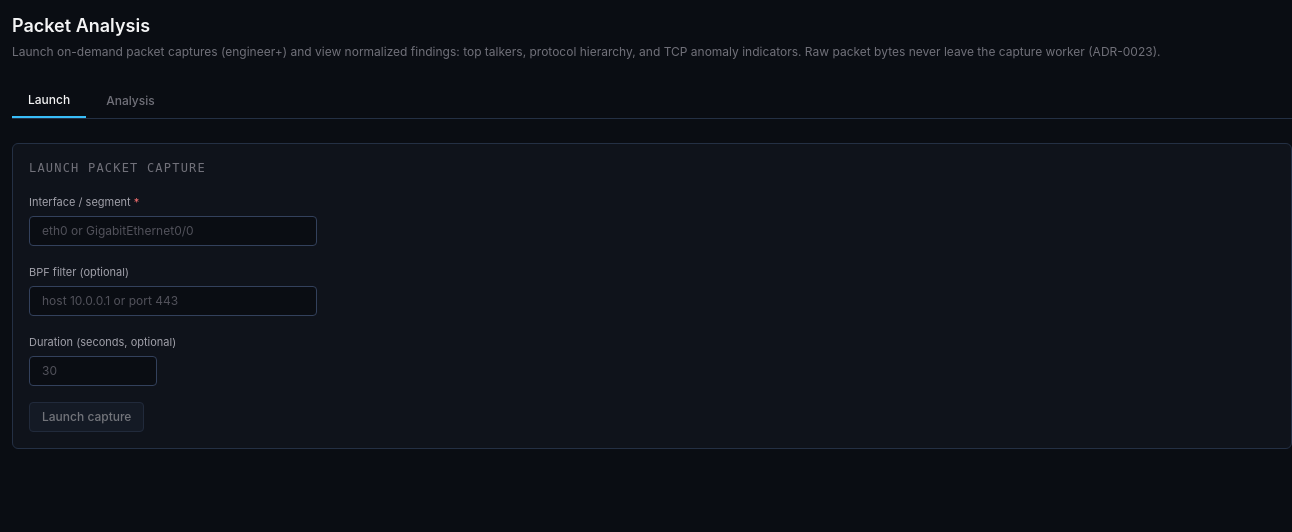
Test: PacketPage — capture launch › shows a fallback alert when capture launch rejects a non-Error value
The width and height of the screenshot is (1292, 532).
Type "eth0" into the field with test id "capture-interface". click: (173, 231)
box: x1=29 y1=216 x2=317 y2=246
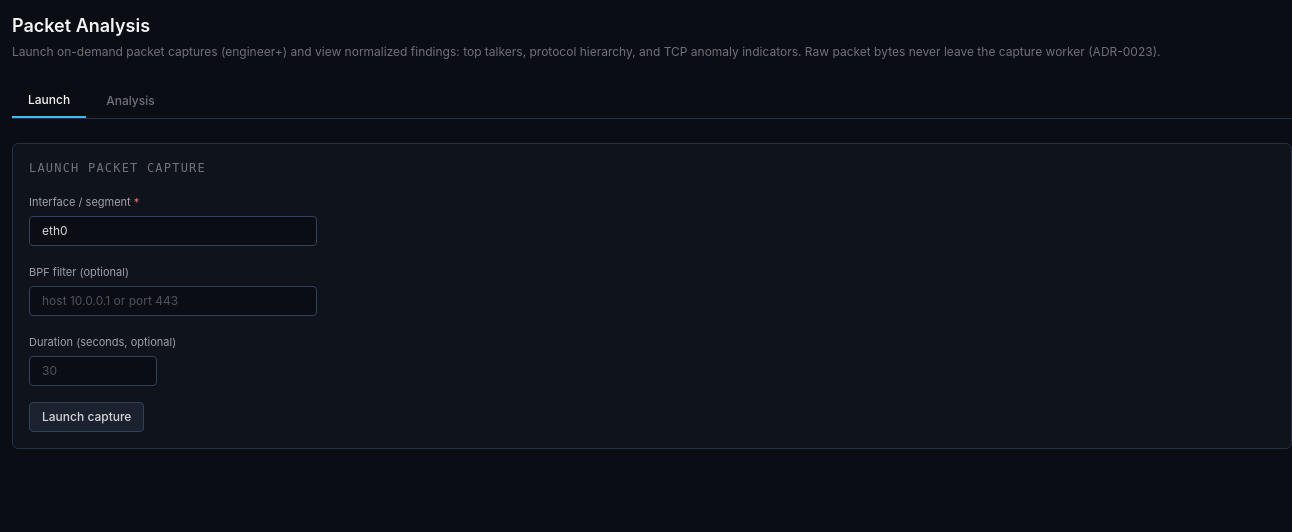
Click the button with test id "capture-launch-btn". click: (87, 417)
box: x1=29 y1=402 x2=144 y2=432
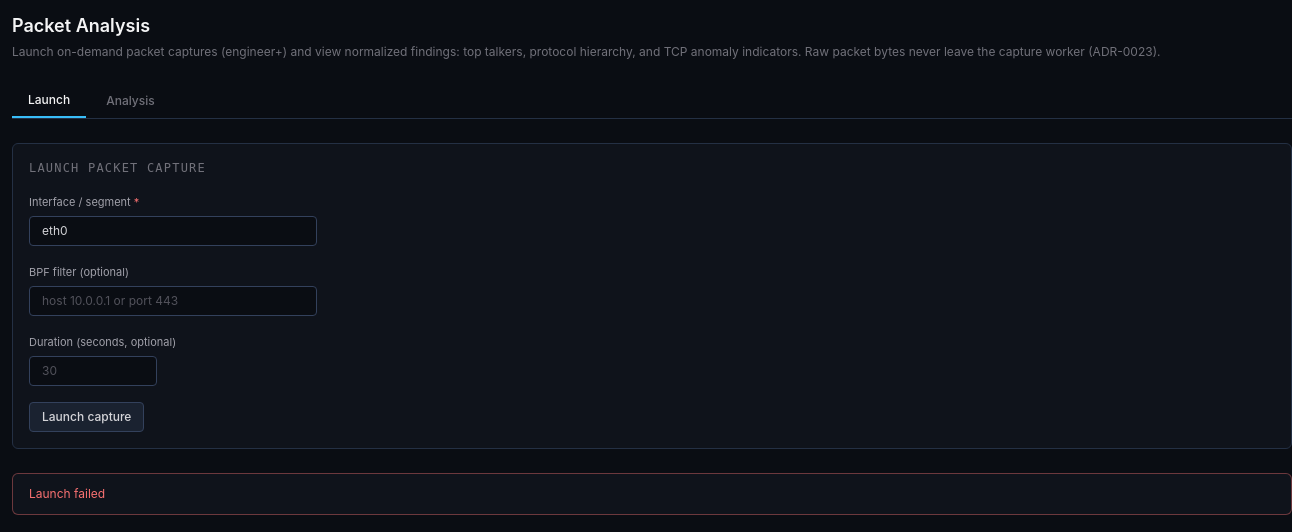
Expected: the message with test id "capture-launch-error" reads "Launch failed", x1=29 y1=486 x2=105 y2=501
